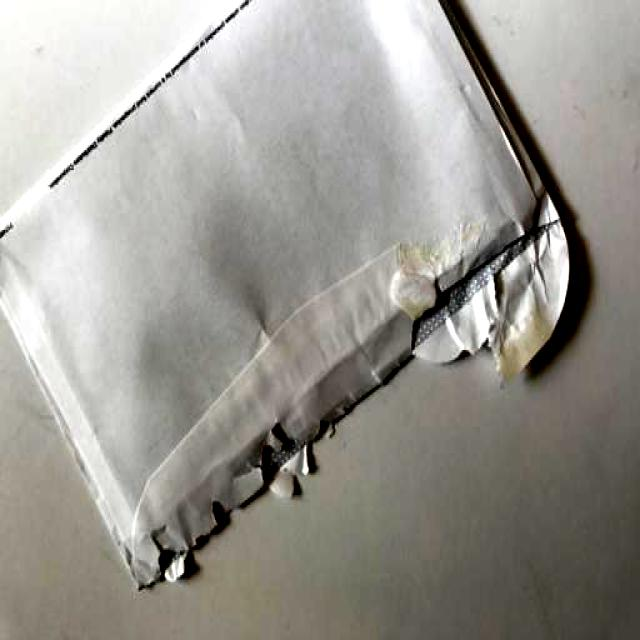Paper: (0, 2, 570, 588)
